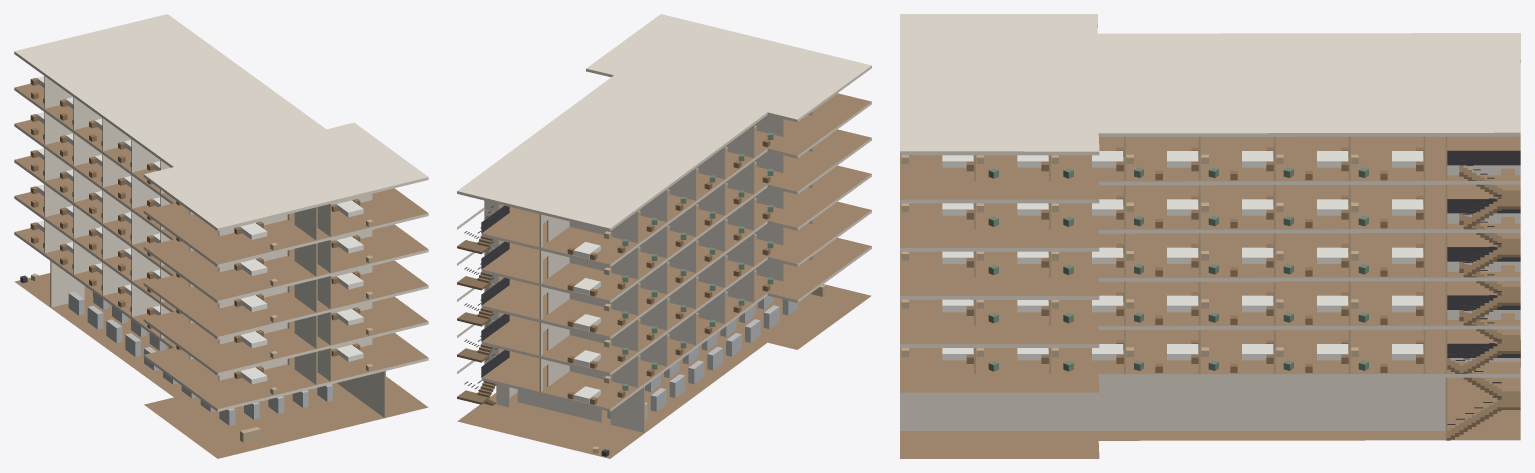
File: interior.glb
The picture shows the model from 3 angles, left to right: view 1: azimuth 30°, elevation 25°; view 2: azimuth 150°, elevation 25°; view 3: azimuth 270°, elevation 25°; orthographic projection. The views are drawn at different scales.
Parts seen in each view (by area): view 1: slabs, partitions, coarse-s0, coarse-s2, coarse-s3, coarse-s4, coarse-s5, coarse-s1; view 2: slabs, partitions, stair, coarse-s0, coarse-s1, coarse-s2, coarse-s3, coarse-s4, coarse-s5; view 3: slabs, partitions, stair, coarse-s2, coarse-s4, coarse-s5, coarse-s3, coarse-s1.
Part boxes in pixels (box(x1,y1,x2,y2)): slabs: box(14, 14, 428, 458); partitions: box(44, 76, 385, 418); coarse-s0: box(20, 273, 332, 442); coarse-s2: box(30, 184, 373, 358); coarse-s3: box(30, 148, 373, 322); coarse-s4: box(30, 112, 373, 286); coarse-s5: box(30, 76, 373, 250); coarse-s1: box(30, 220, 373, 394); slabs: box(457, 14, 871, 458); partitions: box(484, 111, 812, 432); stair: box(457, 205, 509, 405); coarse-s0: box(592, 284, 825, 456); coarse-s1: box(567, 264, 801, 404); coarse-s2: box(567, 227, 802, 368); coarse-s3: box(567, 191, 802, 332); coarse-s4: box(567, 155, 802, 296); coarse-s5: box(567, 119, 802, 260); slabs: box(900, 14, 1520, 458); partitions: box(900, 136, 1520, 440); stair: box(1446, 150, 1520, 440); coarse-s2: box(901, 292, 1423, 324); coarse-s4: box(901, 195, 1423, 228); coarse-s5: box(901, 147, 1423, 180); coarse-s3: box(901, 243, 1423, 276); coarse-s1: box(901, 340, 1423, 372).
Bounding box in the file's own units: 20.72 × 21.62 × 39.53.
